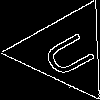U: (40, 26, 100, 81)
